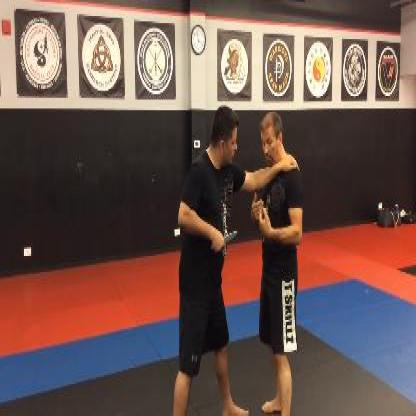knife: (210, 227, 238, 253)
